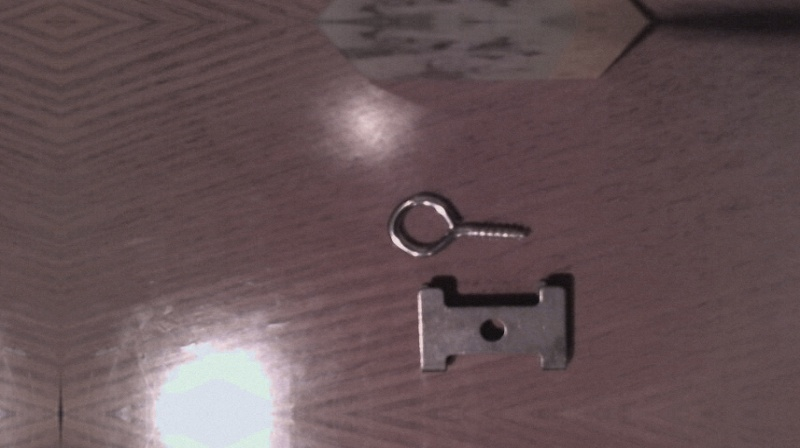O001: (383, 193, 535, 260)
O002: (413, 274, 575, 377)
